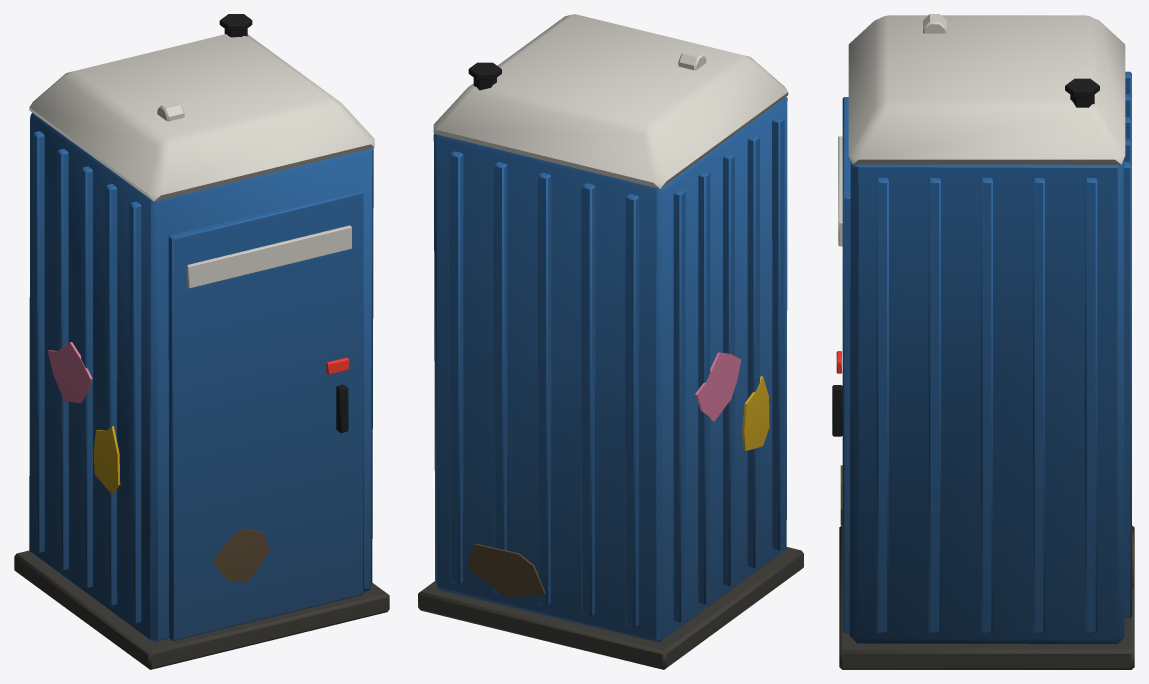
The model's file is 39_toilettes_chantier.fbx.
3 views of the same model, side by side, from view 1: azimuth 30°, elevation 25°; view 2: azimuth 150°, elevation 25°; view 3: azimuth 270°, elevation 25° (orthographic). The views are drawn at different scales.
Visible parts, largest first — view 1: Cabine, Porte; view 2: Cabine; view 3: Cabine, Porte.
Boxes of the visible parts, <box> form: Cabine: <box>14,14,389,669</box>; Porte: <box>168,189,363,640</box>; Cabine: <box>418,14,803,669</box>; Cabine: <box>839,14,1134,669</box>; Porte: <box>832,97,850,633</box>.
Bounding box in the file's own units: 0.952 × 1.96 × 0.952.
Materials: 1 (1 with a texture image).
